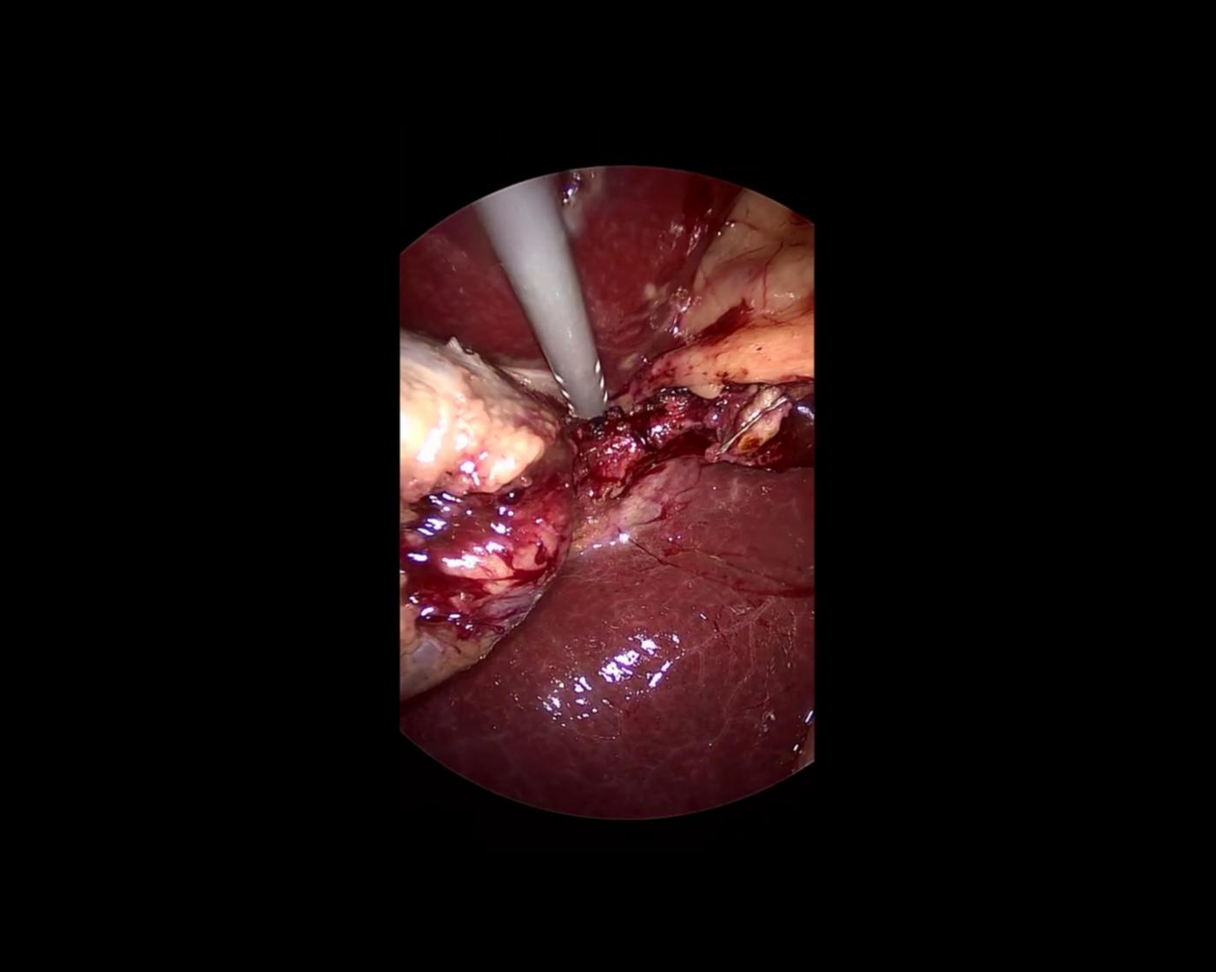Gallbladder: (397, 329, 578, 701)
Liver: (399, 454, 817, 817), (379, 86, 743, 419)
Suction: (472, 172, 614, 433)
